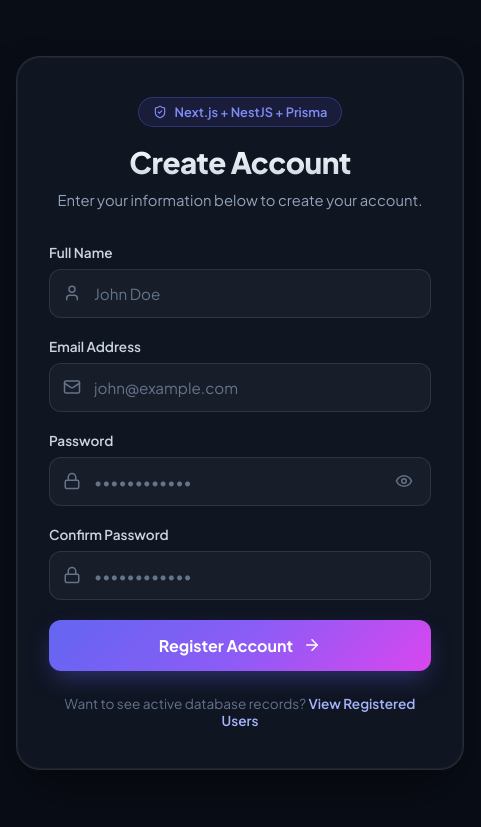
it: RegistrationForm Component › displays error banner when backend returns error message
The width and height of the screenshot is (481, 827).
In the field labelled "Full Name": (240, 293) [49,269,431,318], type "Alex Morgan"
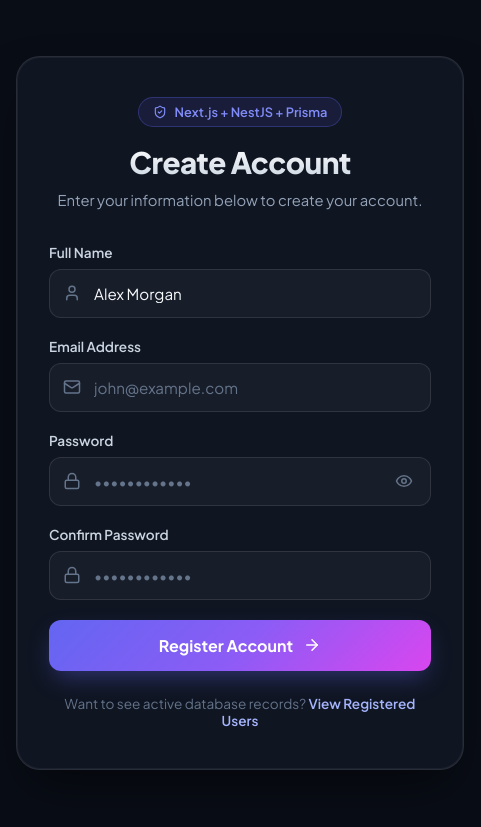
In the field labelled "Email Address": (240, 387) [49,363,431,412], type "existing@example.com"
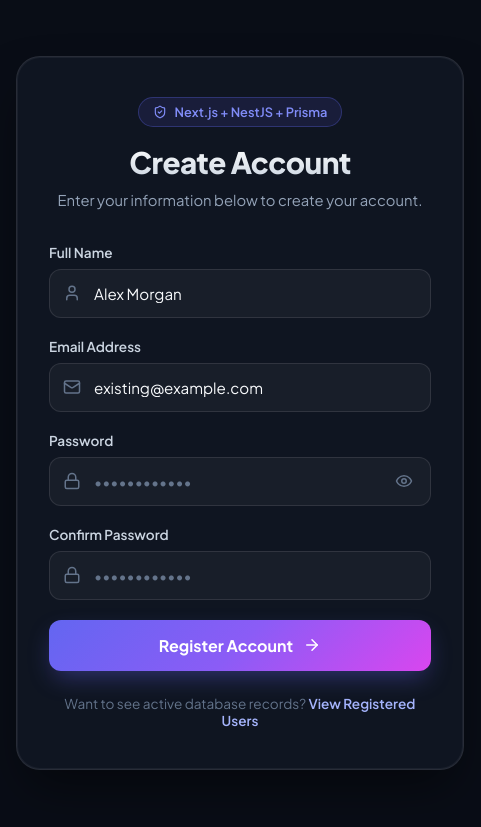
In the password field labelled "Password": (240, 481) [49,457,431,506], type "secret123"
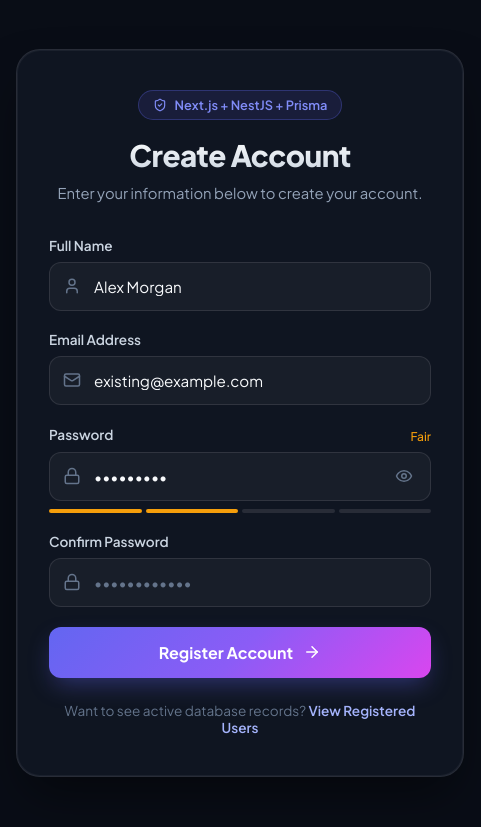
In the password field labelled "Confirm Password": (240, 582) [49,558,431,607], type "secret123"
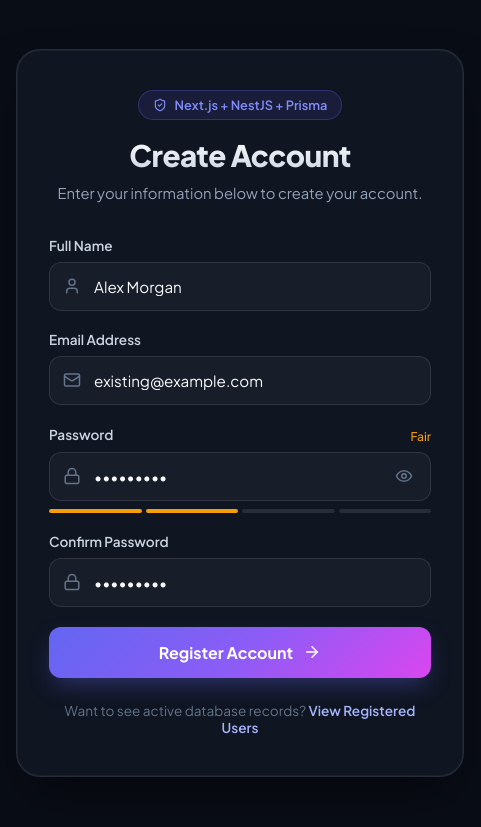
Click the button "Register Account": click(240, 652) [49,627,431,678]
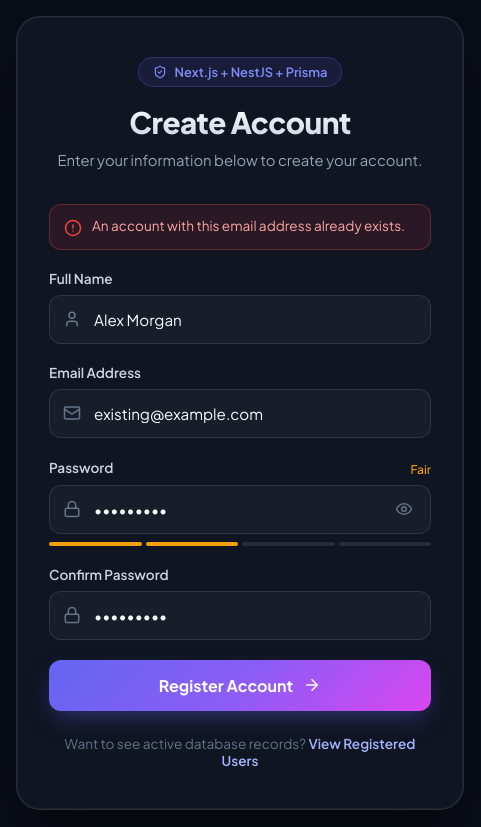
Check: the text "An account with this email address already exists." is shown, box [92,217,405,234]
